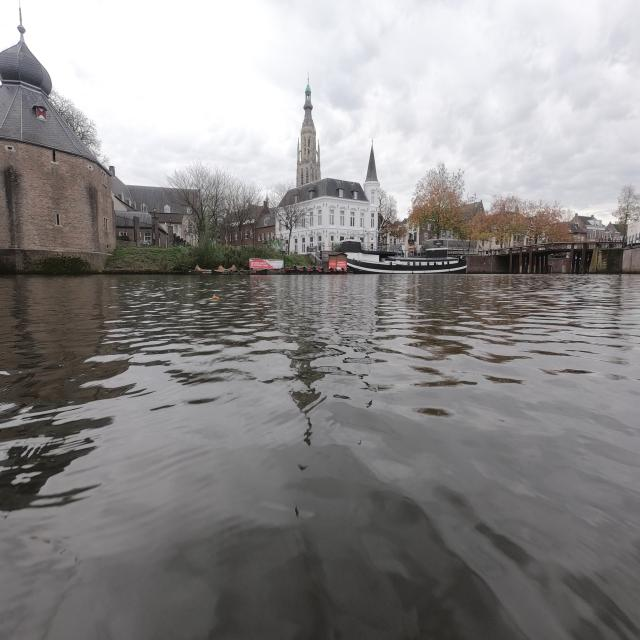boat: (346, 250, 468, 270)
grass: (112, 244, 220, 270)
sky: (0, 6, 638, 242)
tree: (485, 194, 566, 246), (408, 162, 464, 237)
wall: (0, 22, 116, 272), (596, 248, 624, 270), (622, 248, 638, 270)
water: (2, 286, 638, 634)
